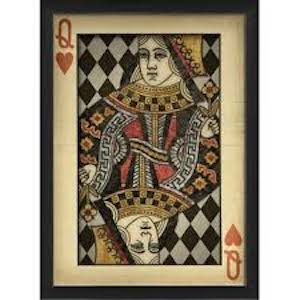QueenOfHearts: (49, 11, 251, 293)
